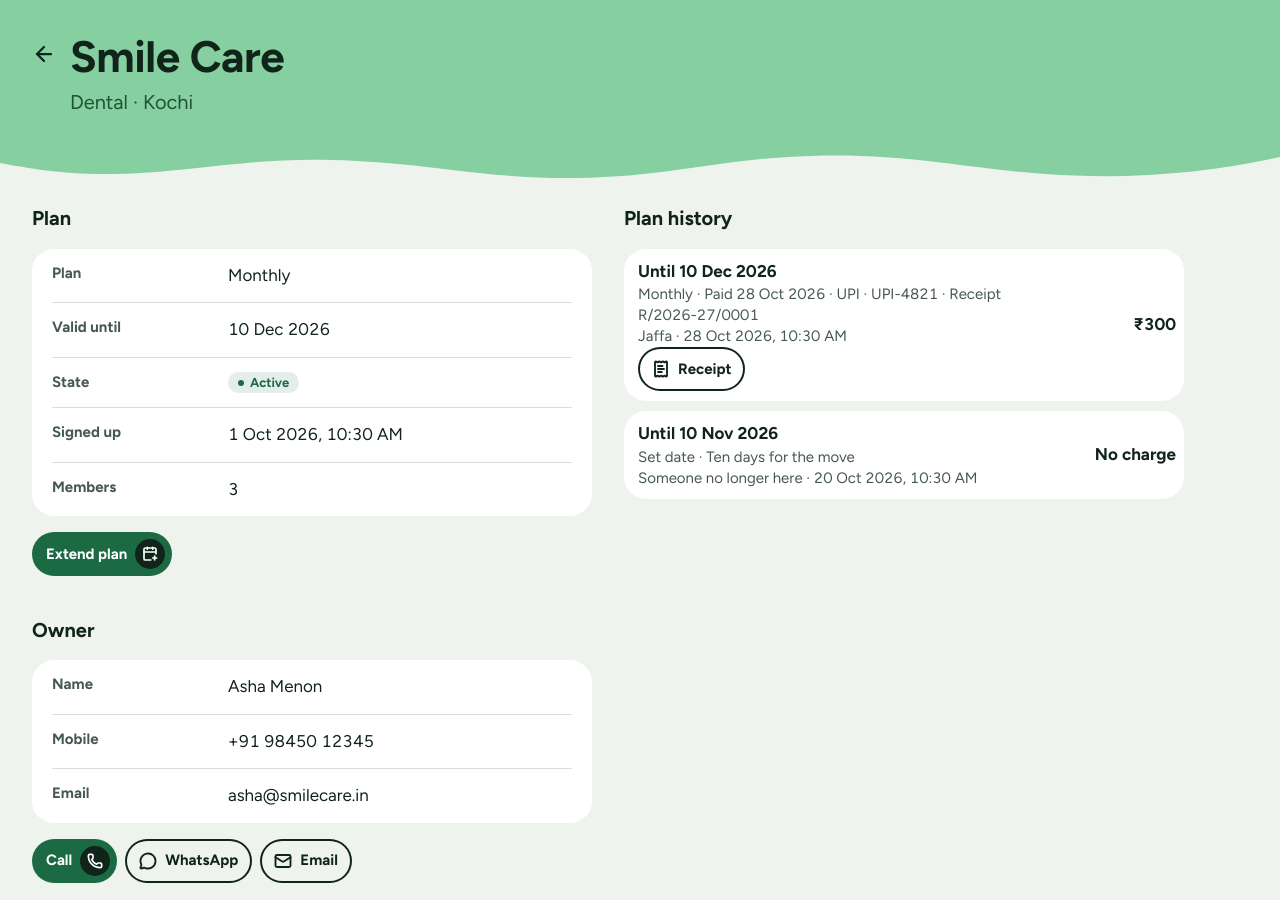
Scenario: ConsoleClinicPage (plan §20.3; D370) › opens Extend plan from the plan, and closes it again (plan §7.4; D373)
Click the button "Extend plan" at {"x": 102, "y": 554}, box top-left (32, 532), bottom-right (172, 576)
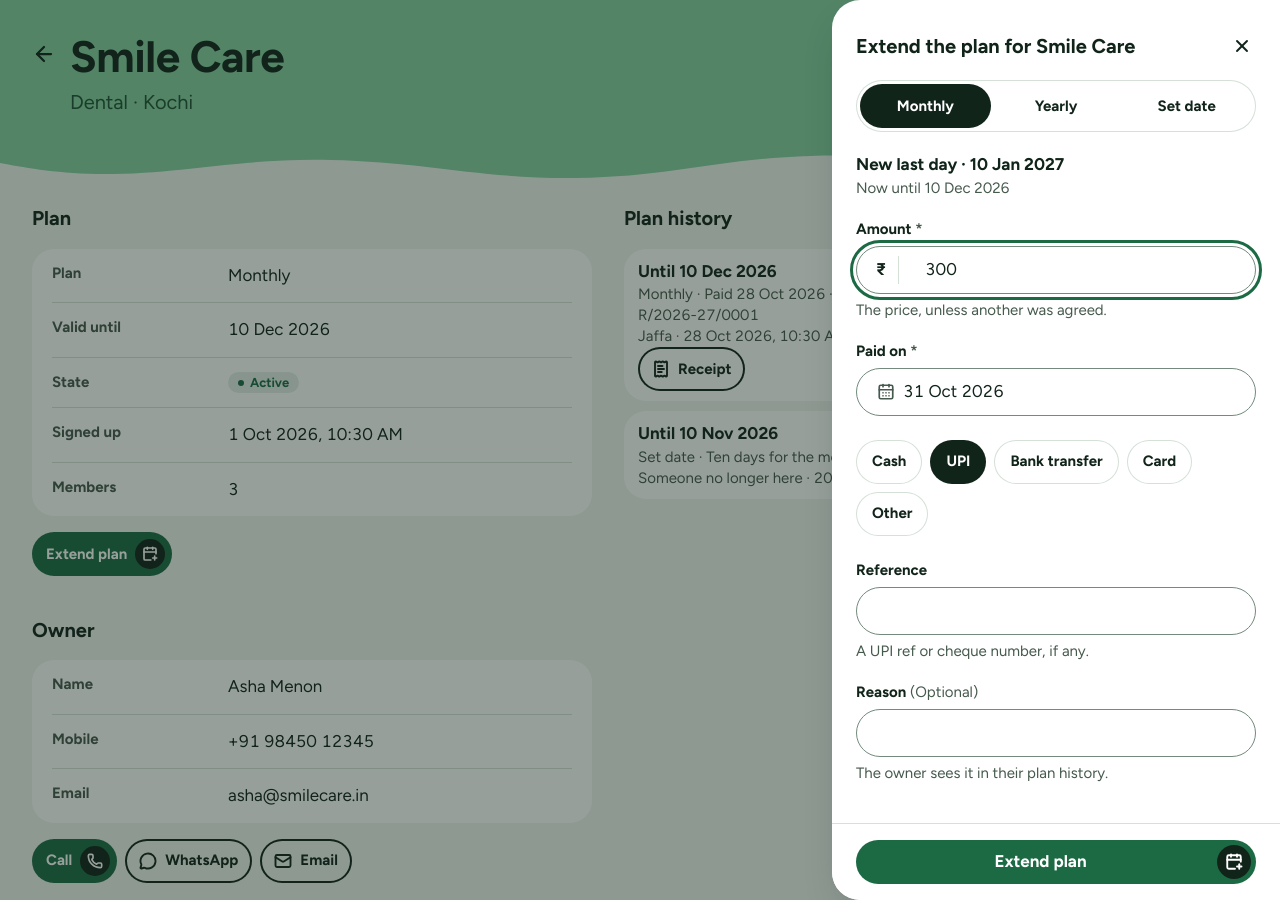
Expected: the radio button labelled "Monthly" is checked, top-left (860, 84), bottom-right (991, 128)
Click the button named "Close" at {"x": 1242, "y": 46}, box top-left (1220, 24), bottom-right (1264, 68)
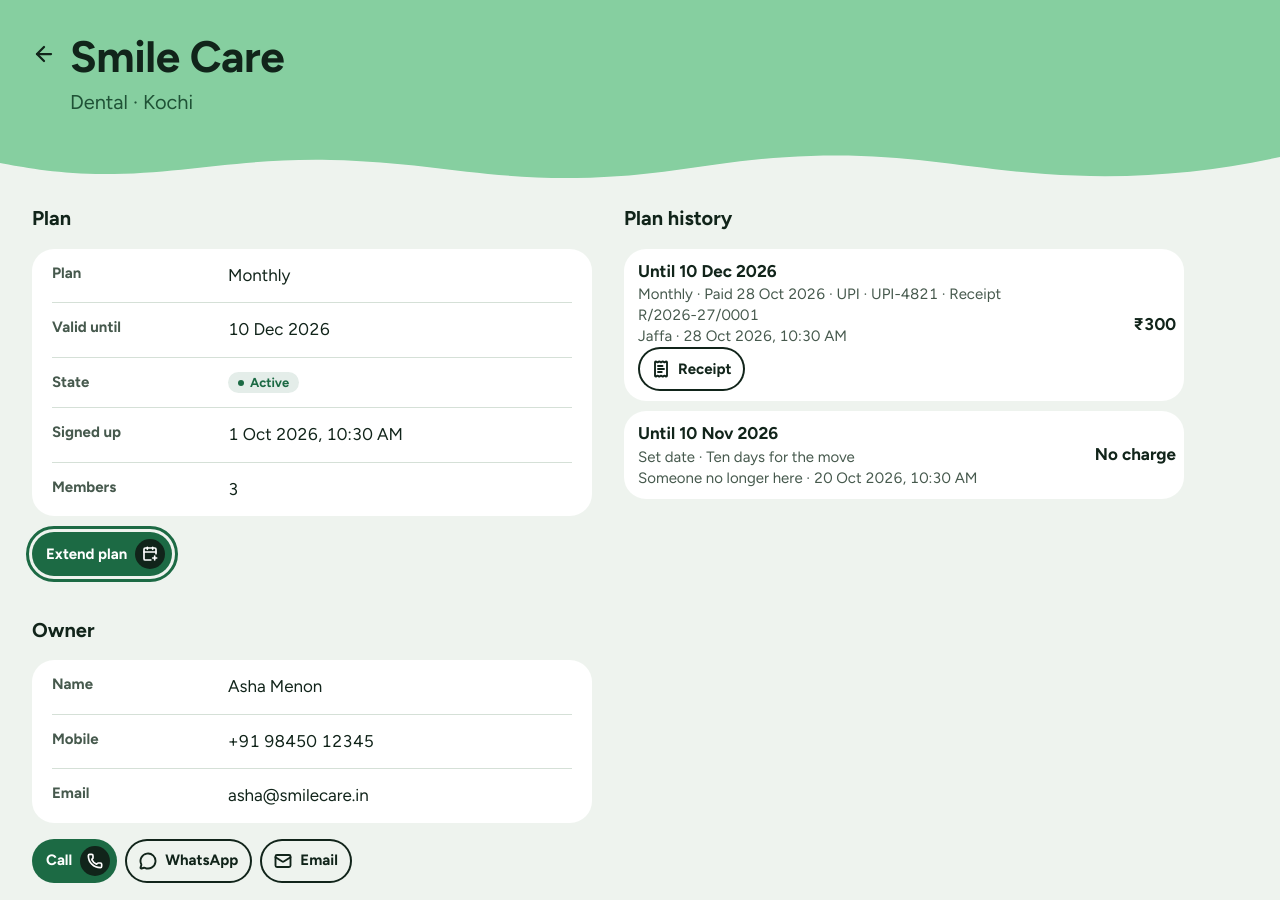
Expected: the heading "Extend the plan for Smile Care" is gone
